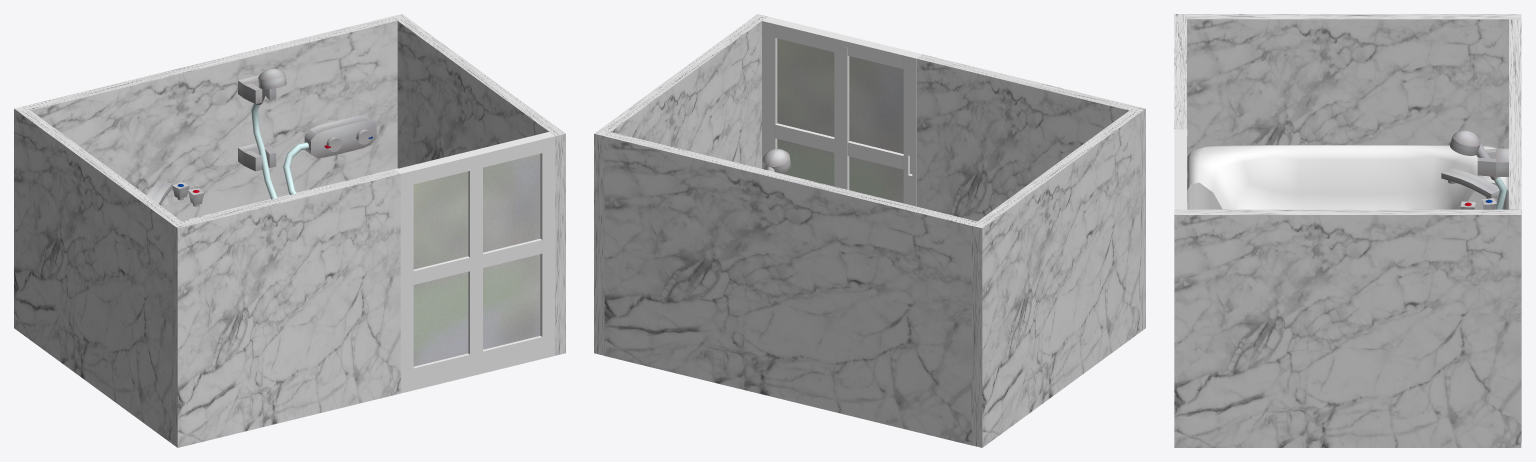
The model's file is yokusou.FBX.
3 renders of one model, left to right at view 1: azimuth 30°, elevation 25°; view 2: azimuth 150°, elevation 25°; view 3: azimuth 270°, elevation 25°, orthographic. The views are drawn at different scales.
Parts seen in each view (by area): view 1: kabe3, kabe1, kabe4, doa5, kabe2, doa1, doa2, doa3, doa4, doa7, doa6, syawa-hontai (+3 smaller); view 2: kabe1, kabe4, kabe3, kabe2, doa5, doa4, doa7, doa3, doa2, doa6; view 3: kabe2, kabe4, yokusou, kabe1, kabe3, doa4, jaguchi1, syawa-oki1.
Part boxes in pixels (bbox=[...]): kabe3: bbox=[171, 169, 400, 447]; kabe1: bbox=[24, 16, 397, 221]; kabe4: bbox=[14, 106, 181, 443]; doa5: bbox=[413, 154, 540, 366]; kabe2: bbox=[392, 14, 565, 355]; doa1: bbox=[400, 334, 555, 393]; doa2: bbox=[536, 132, 555, 336]; doa3: bbox=[395, 166, 413, 371]; doa4: bbox=[408, 135, 542, 184]; doa7: bbox=[468, 167, 482, 354]; doa6: bbox=[413, 238, 542, 284]; syawa-hontai: bbox=[304, 115, 376, 157]; kabe1: bbox=[604, 132, 977, 445]; kabe4: bbox=[971, 110, 1139, 447]; kabe3: bbox=[917, 54, 1145, 332]; kabe2: bbox=[594, 14, 767, 355]; doa5: bbox=[777, 38, 903, 203]; doa4: bbox=[775, 20, 909, 68]; doa7: bbox=[834, 44, 849, 189]; doa3: bbox=[903, 51, 922, 206]; doa2: bbox=[762, 16, 780, 169]; doa6: bbox=[775, 123, 903, 169]; kabe2: bbox=[1174, 209, 1521, 447]; kabe4: bbox=[1187, 14, 1521, 209]; yokusou: bbox=[1187, 145, 1508, 209]; kabe1: bbox=[1509, 19, 1521, 442]; kabe3: bbox=[1174, 14, 1186, 129]; doa4: bbox=[1174, 136, 1186, 202]; jaguchi1: bbox=[1441, 168, 1499, 198]; syawa-oki1: bbox=[1477, 148, 1508, 176].
Bounding box in the file's own units: 148 × 108 × 80.65.
Materials: 9 (9 with a texture image).
